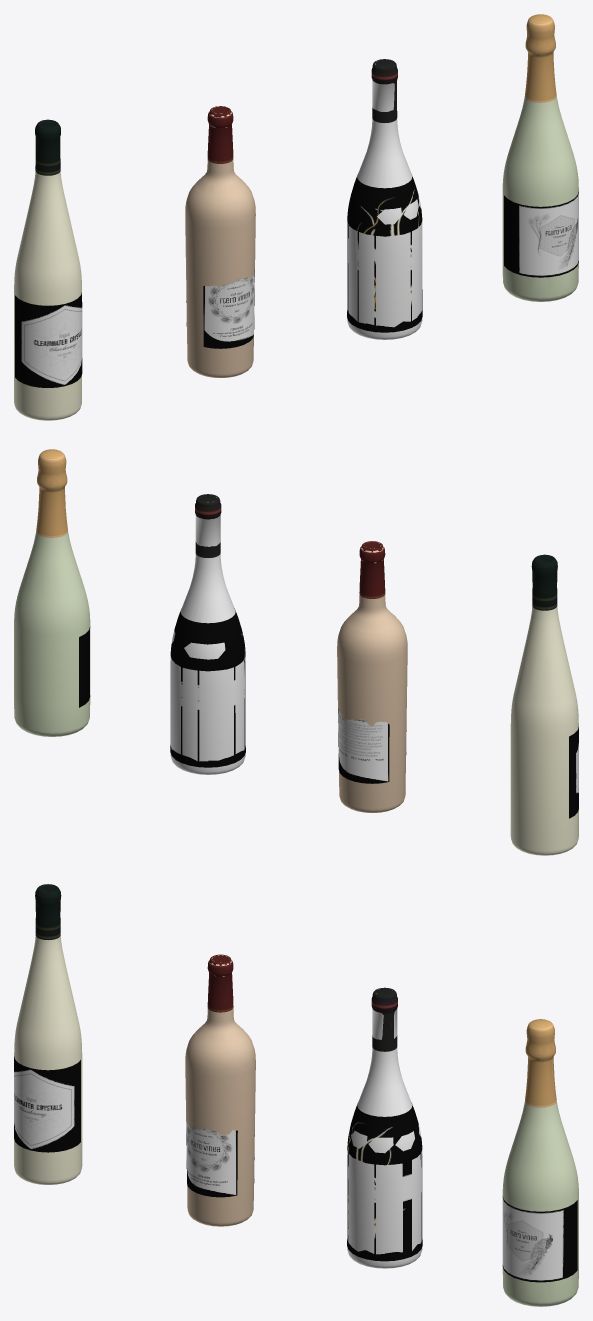
File: wine_bottles_01.glb
3 renders of one model, top to bottom at view 1: azimuth 30°, elevation 25°; view 2: azimuth 150°, elevation 25°; view 3: azimuth 330°, elevation 25°, orthographic.
Parts seen in each view (by area): view 1: wine_bottles_01_champagne, wine_bottles_01_alsace, wine_bottles_01_burgundy, wine_bottles_01_bordeaux; view 2: wine_bottles_01_champagne, wine_bottles_01_alsace, wine_bottles_01_burgundy, wine_bottles_01_bordeaux; view 3: wine_bottles_01_champagne, wine_bottles_01_alsace, wine_bottles_01_burgundy, wine_bottles_01_bordeaux.
Part boxes in pixels (bbox=[...]): wine_bottles_01_champagne: bbox=[502, 14, 578, 301]; wine_bottles_01_alsace: bbox=[14, 119, 82, 420]; wine_bottles_01_burgundy: bbox=[347, 59, 422, 339]; wine_bottles_01_bordeaux: bbox=[185, 106, 255, 377]; wine_bottles_01_champagne: bbox=[14, 449, 90, 736]; wine_bottles_01_alsace: bbox=[510, 554, 578, 855]; wine_bottles_01_burgundy: bbox=[170, 494, 245, 774]; wine_bottles_01_bordeaux: bbox=[337, 541, 407, 812]; wine_bottles_01_champagne: bbox=[502, 1019, 578, 1306]; wine_bottles_01_alsace: bbox=[14, 884, 82, 1184]; wine_bottles_01_burgundy: bbox=[347, 987, 422, 1268]; wine_bottles_01_bordeaux: bbox=[185, 954, 255, 1226].
Bounding box in the file's own units: 0.6763 × 0.3314 × 0.0805.
9 materials, 6 textured.
